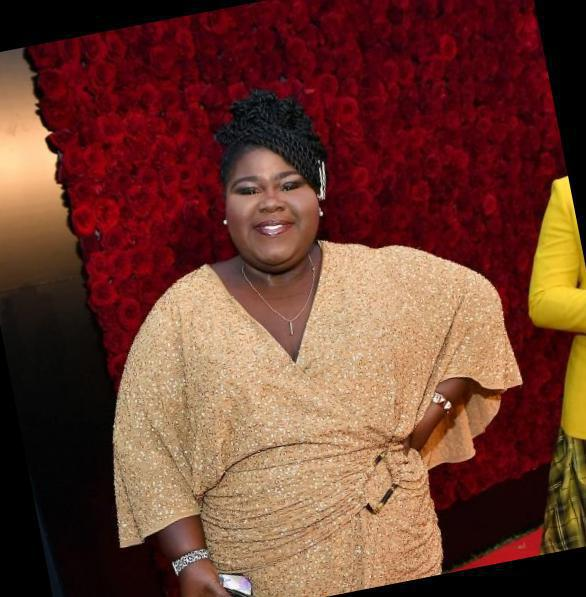Sober: (228, 155, 324, 257)
